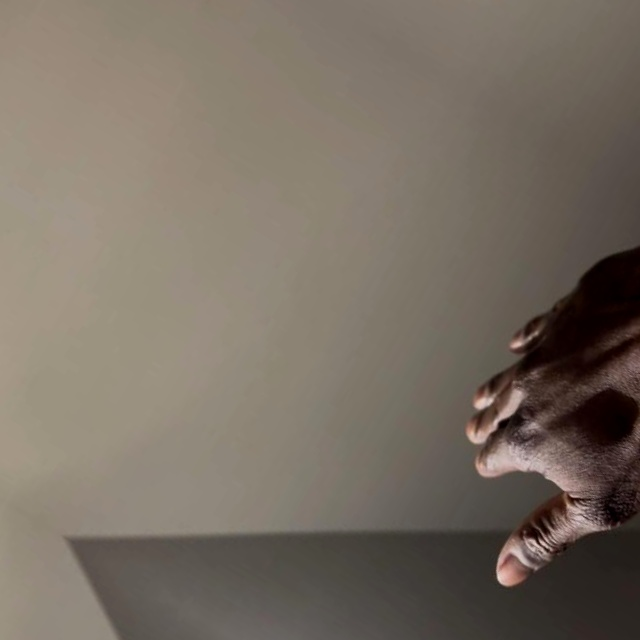Paper: (393, 171, 640, 640)
